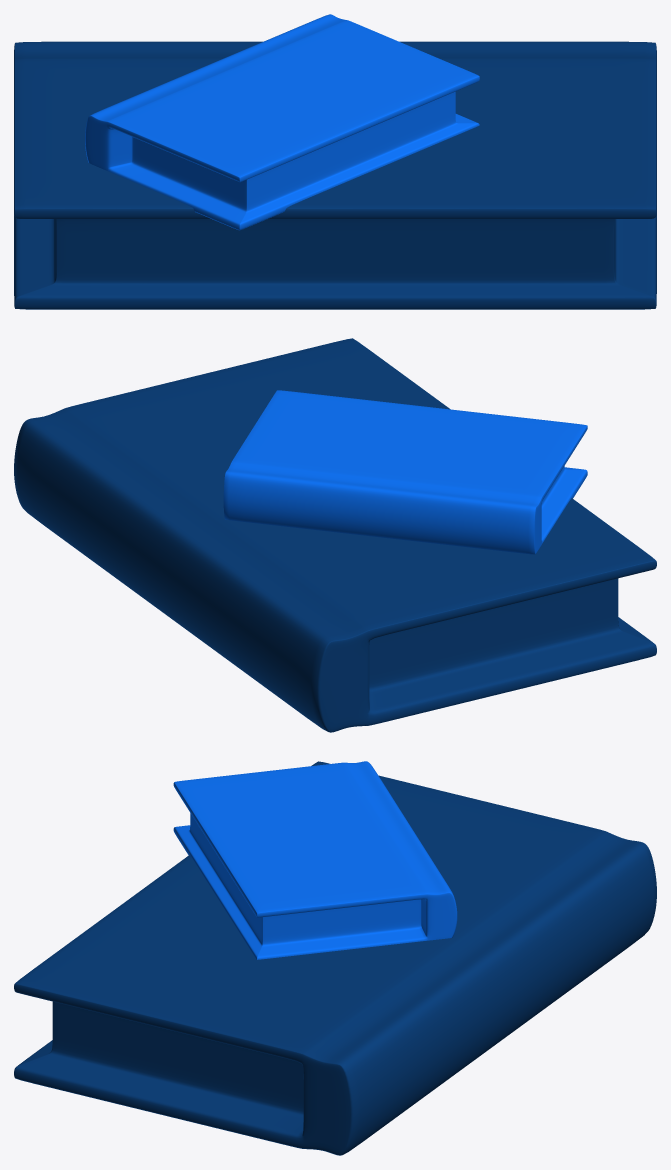
The model's file is Book3.glb.
The picture shows the model from 3 angles, top to bottom: view 1: azimuth 30°, elevation 25°; view 2: azimuth 150°, elevation 25°; view 3: azimuth 270°, elevation 25°; orthographic projection. The views are drawn at different scales.
Parts seen in each view (by area): view 1: pCube31, pCube32; view 2: pCube31, pCube32; view 3: pCube31, pCube32.
Boxes of the visible parts, x1=… form: pCube31: x1=14, y1=41, x2=656, y2=309; pCube32: x1=85, y1=14, x2=479, y2=230; pCube31: x1=14, y1=338, x2=656, y2=732; pCube32: x1=223, y1=390, x2=587, y2=554; pCube31: x1=14, y1=761, x2=656, y2=1155; pCube32: x1=173, y1=761, x2=457, y2=959.
Size of the model in its own units: 91.1 by 20.22 by 81.18.
